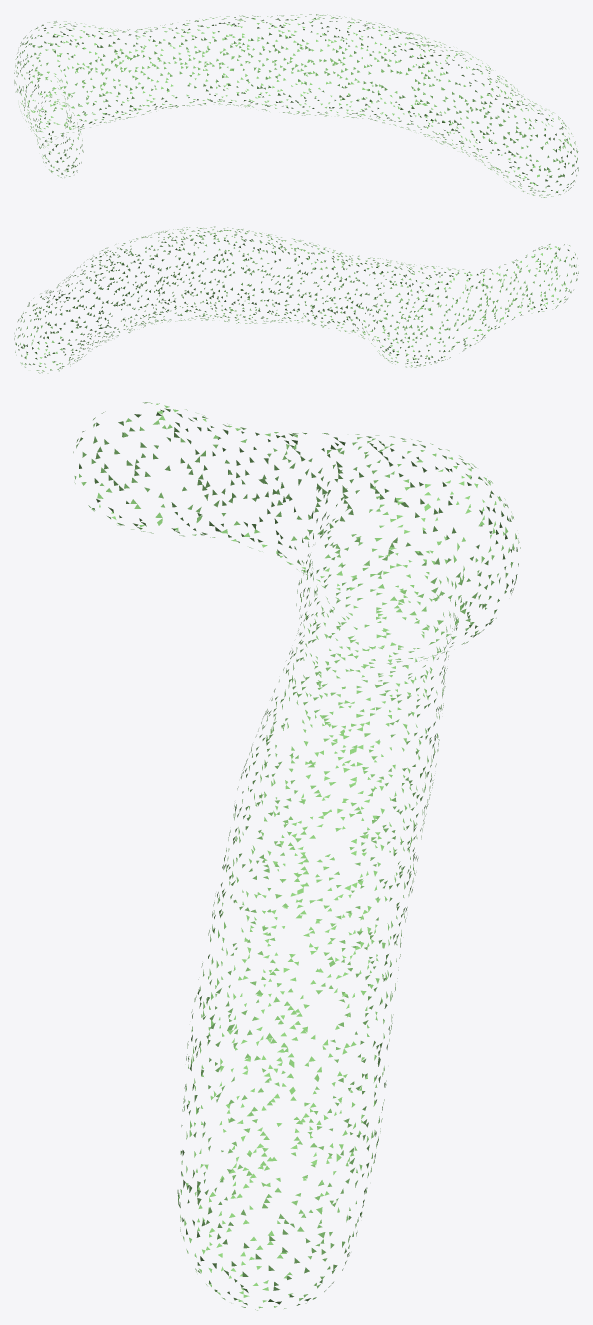
Rendered from morph_015.glb.
3 renders of one model, top to bottom at view 1: azimuth 30°, elevation 25°; view 2: azimuth 150°, elevation 25°; view 3: azimuth 270°, elevation 25°, orthographic. The views are drawn at different scales.
Size of the model in its own units: 131 by 55.51 by 49.69.
